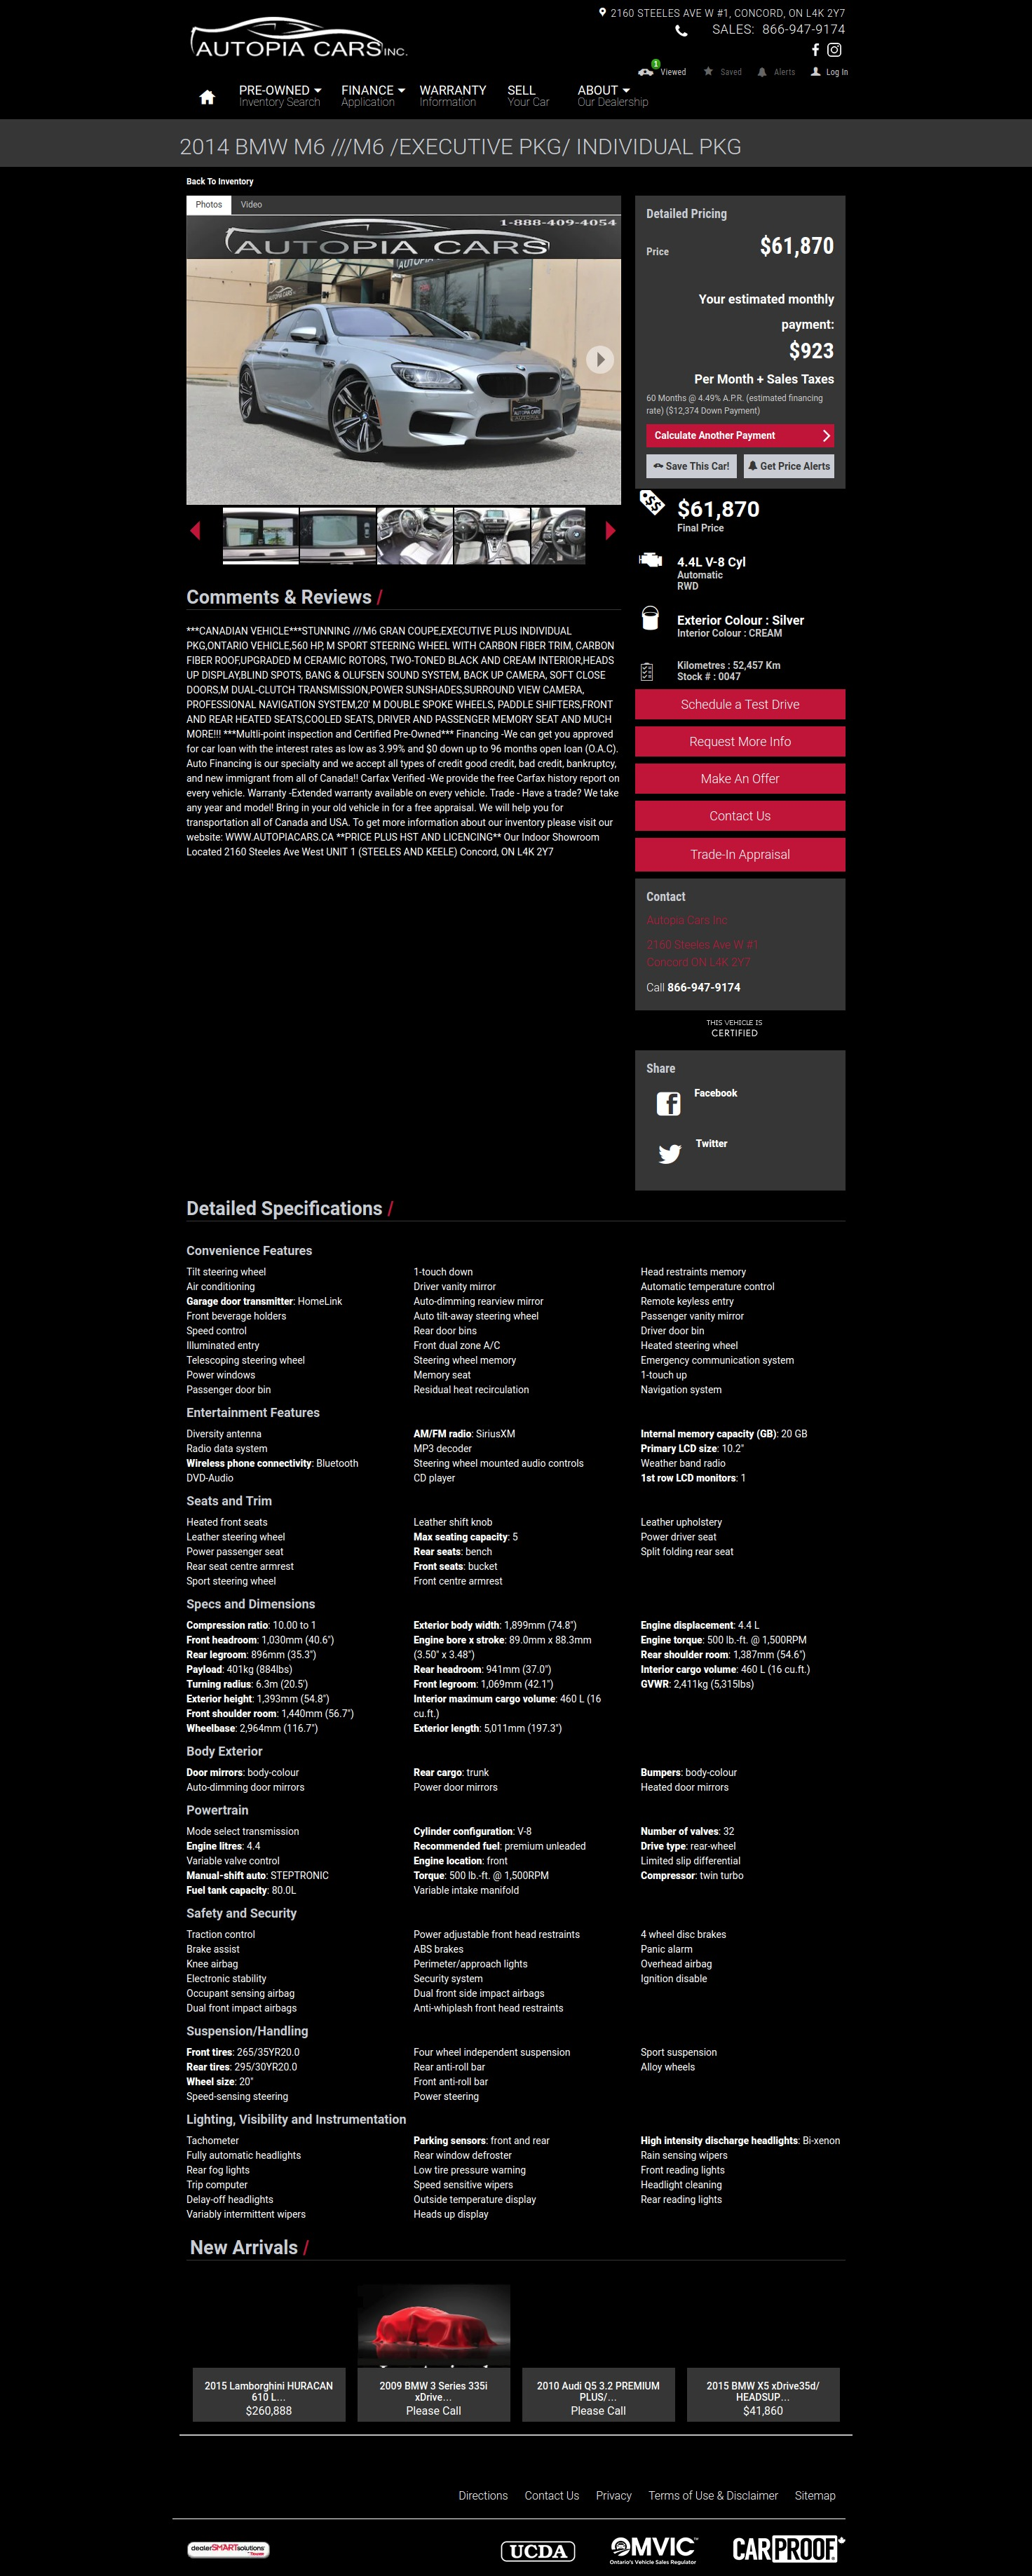car: (603, 521, 616, 540)
